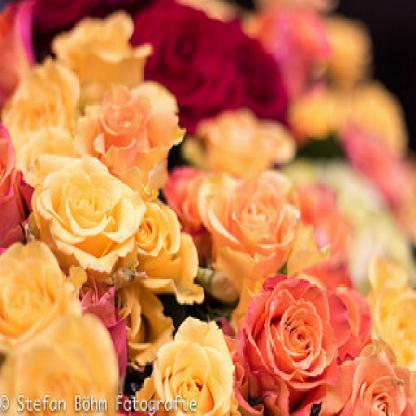Rose-Mawar: (9, 20, 416, 415)
